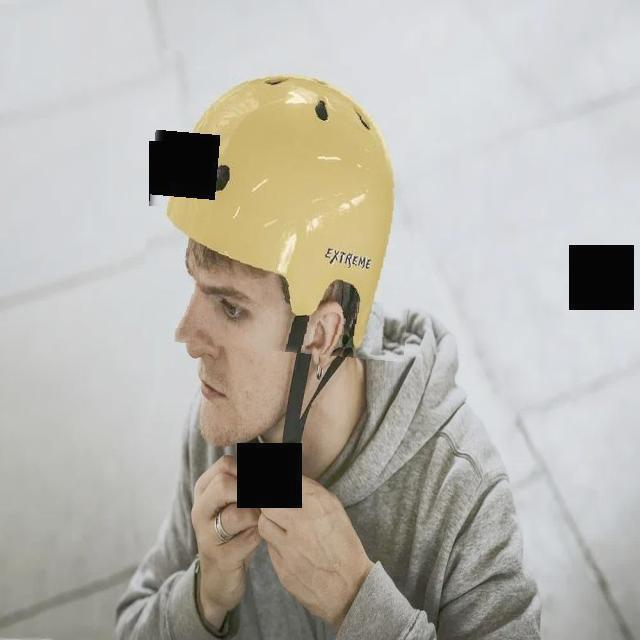helmet: (143, 56, 422, 357)
